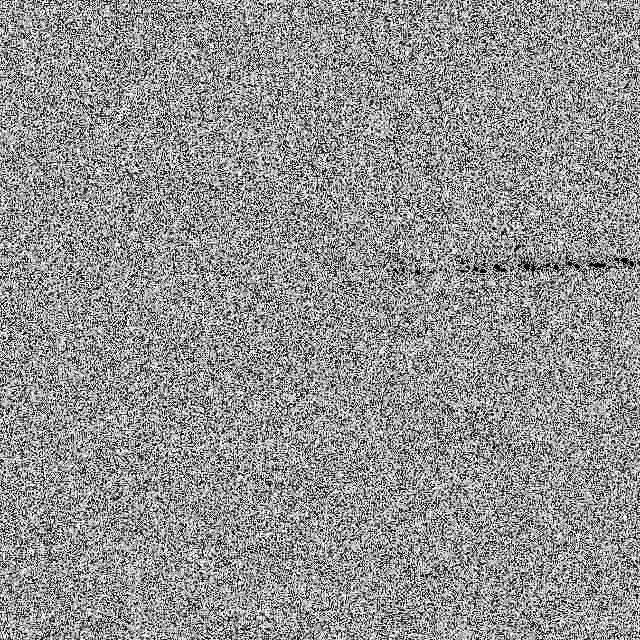Foreign_yarn: (406, 248, 640, 281)
